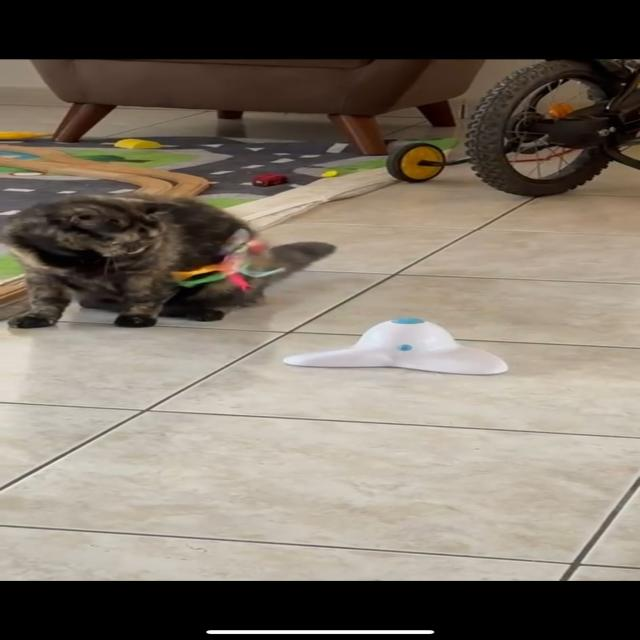authorized: (1, 192, 336, 328)
